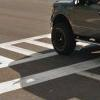cars: (50, 0, 100, 57)
